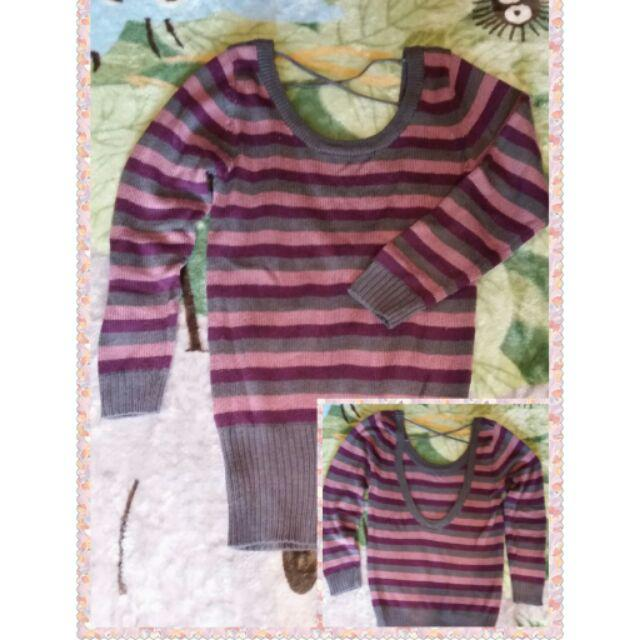Tops: (96, 35, 545, 405), (321, 412, 550, 629)
